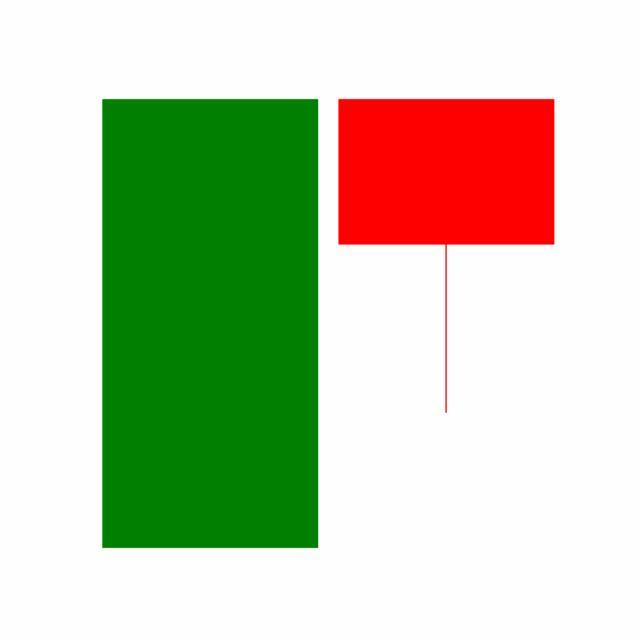Hanging Man: (328, 96, 566, 418)
